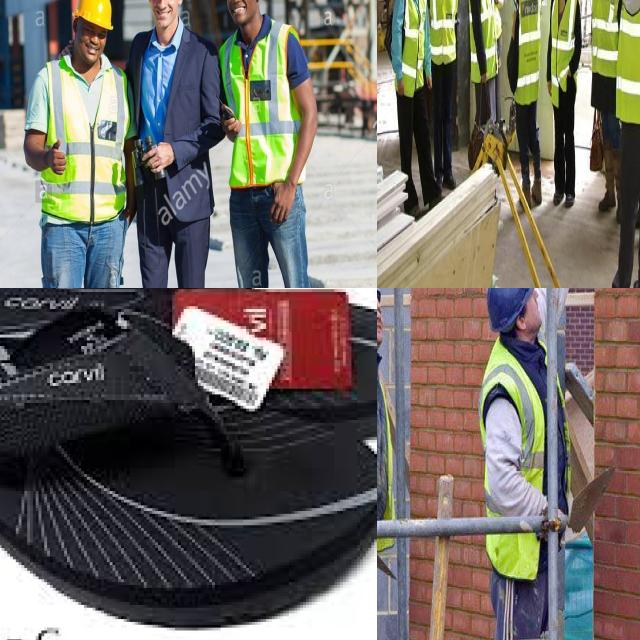Sandals: (0, 288, 377, 640)
face_nomask: (77, 24, 106, 72), (151, 0, 181, 33), (223, 0, 256, 28), (377, 292, 390, 346)
hand_noglove: (147, 137, 175, 178), (273, 178, 298, 223), (49, 138, 71, 177), (395, 71, 405, 101), (425, 65, 433, 91)
head_helmet: (487, 288, 537, 336), (73, 0, 113, 29)
person: (479, 288, 576, 640), (23, 0, 128, 288), (214, 0, 314, 288), (127, 0, 217, 288), (596, 0, 640, 288), (391, 0, 440, 211), (507, 0, 545, 209), (590, 0, 623, 222), (427, 0, 463, 190), (548, 0, 578, 210), (467, 0, 500, 138)
shoes: (597, 187, 617, 217), (441, 165, 458, 190), (531, 174, 543, 208), (550, 182, 565, 209), (564, 185, 576, 210)
vest: (478, 336, 544, 580), (222, 22, 303, 185), (48, 57, 126, 215), (377, 341, 395, 550), (548, 0, 580, 104), (615, 0, 640, 125), (511, 0, 541, 100), (394, 0, 426, 93), (466, 0, 495, 80), (589, 0, 619, 76), (424, 0, 457, 62)
